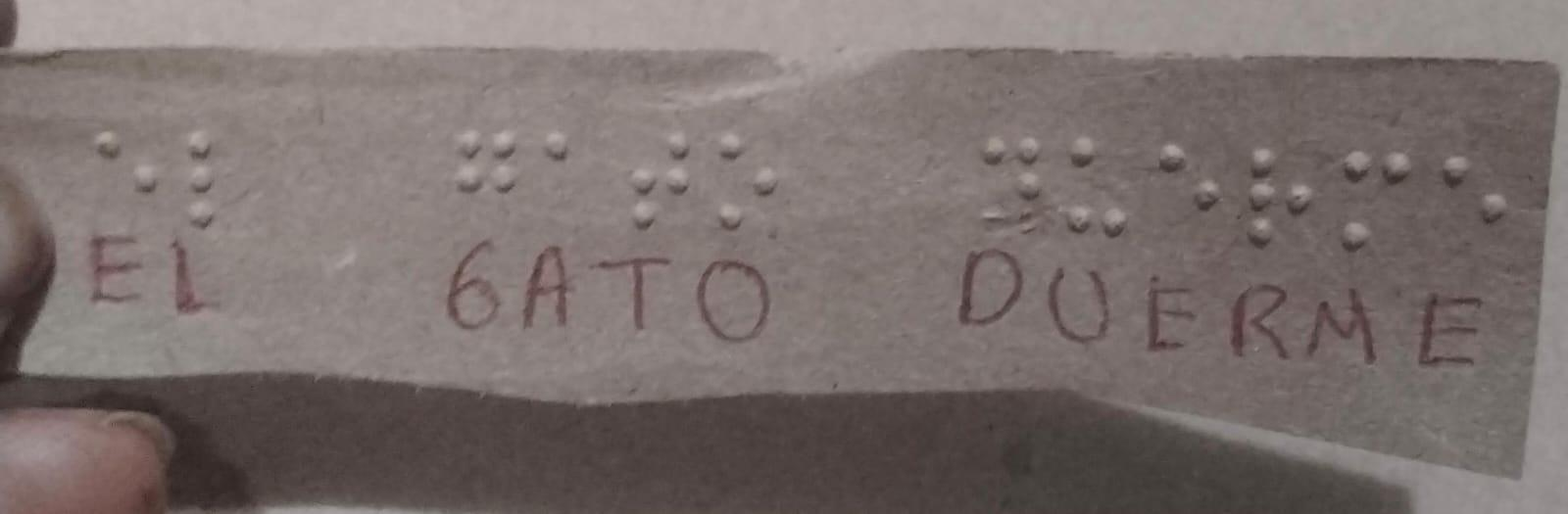a: (531, 116, 578, 178)
d: (984, 121, 1054, 219)
e: (1431, 141, 1515, 249), (90, 117, 169, 211), (1152, 137, 1223, 215)
g: (439, 117, 533, 204)
l: (169, 116, 233, 231)
m: (1325, 143, 1421, 258)
o: (711, 119, 788, 247)
r: (1243, 145, 1317, 251)
t: (621, 119, 694, 243)
u: (1070, 131, 1139, 237)
